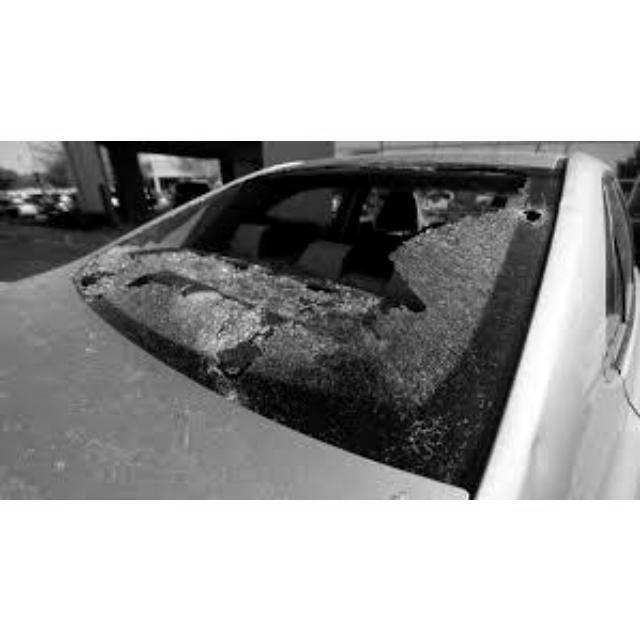Rear-windscreen-Damage: (88, 153, 527, 409)
